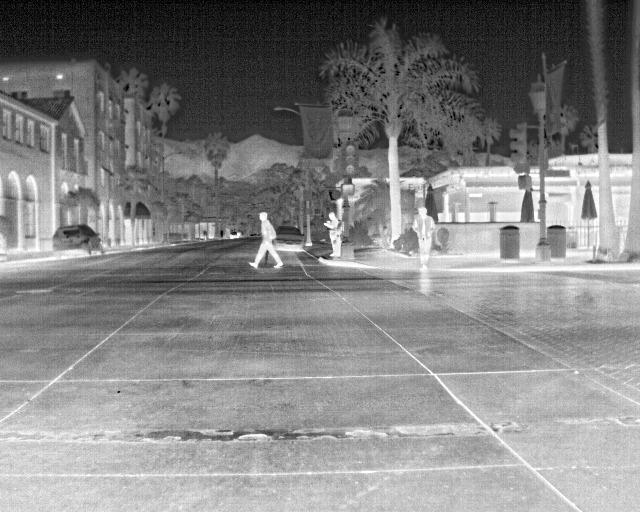bicycle: (51, 224, 103, 258), (274, 225, 305, 251)
empty: (244, 211, 283, 269), (408, 206, 441, 268), (321, 211, 342, 257)
